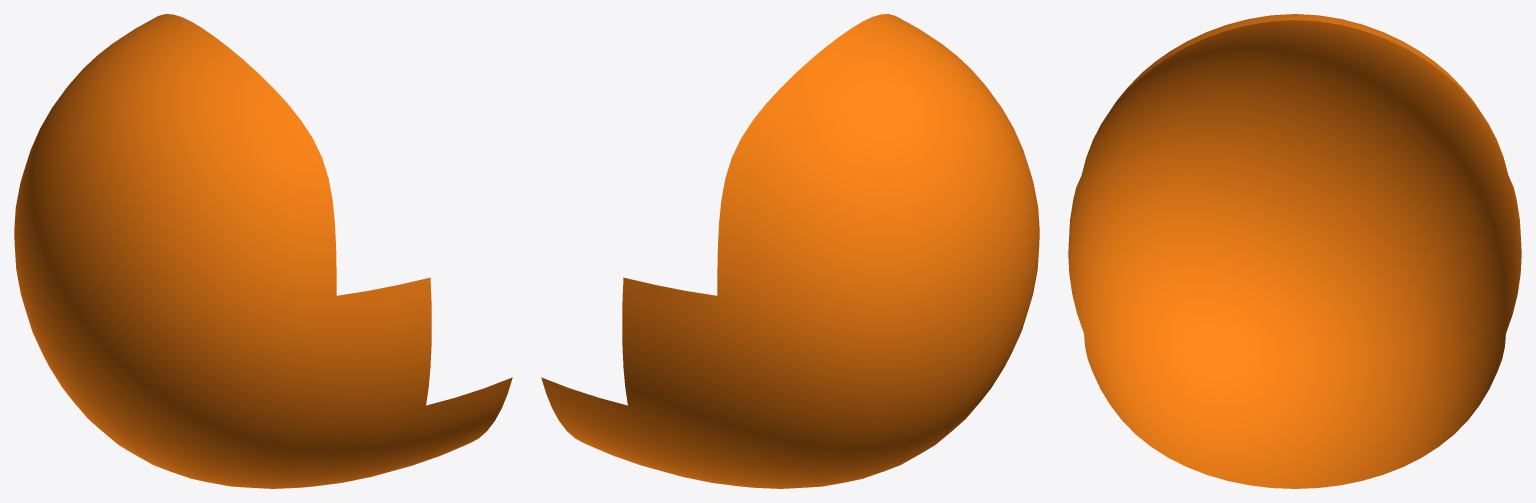
Rendered from nave_trozo2.glb.
The picture shows the model from 3 angles, left to right: view 1: azimuth 30°, elevation 25°; view 2: azimuth 150°, elevation 25°; view 3: azimuth 270°, elevation 25°; orthographic projection. The views are drawn at different scales.
Parts seen in each view (by area): view 1: Plane.005; view 2: Plane.005; view 3: Plane.005.
Part boxes in pixels (x1=…): Plane.005: x1=14, y1=14, x2=512, y2=488; Plane.005: x1=541, y1=14, x2=1039, y2=488; Plane.005: x1=1068, y1=14, x2=1521, y2=488.
Size of the model in its own units: 3.46 by 4.19 by 4.35.
1 material, 1 textured.
